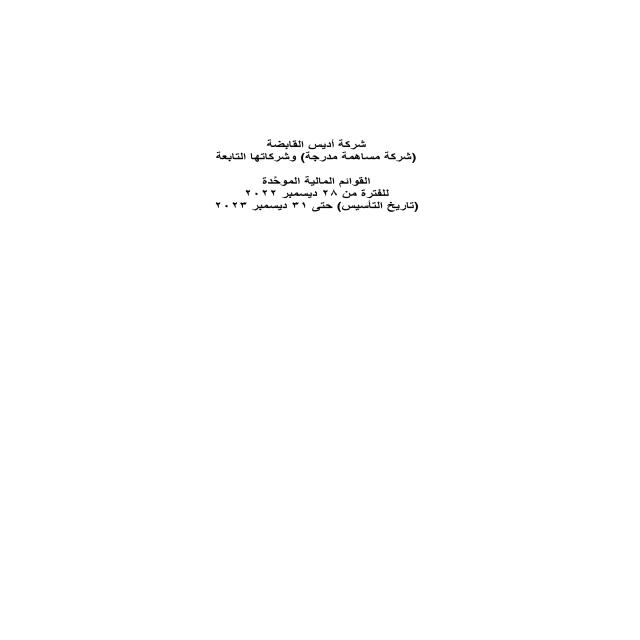other: (158, 99, 426, 267)
